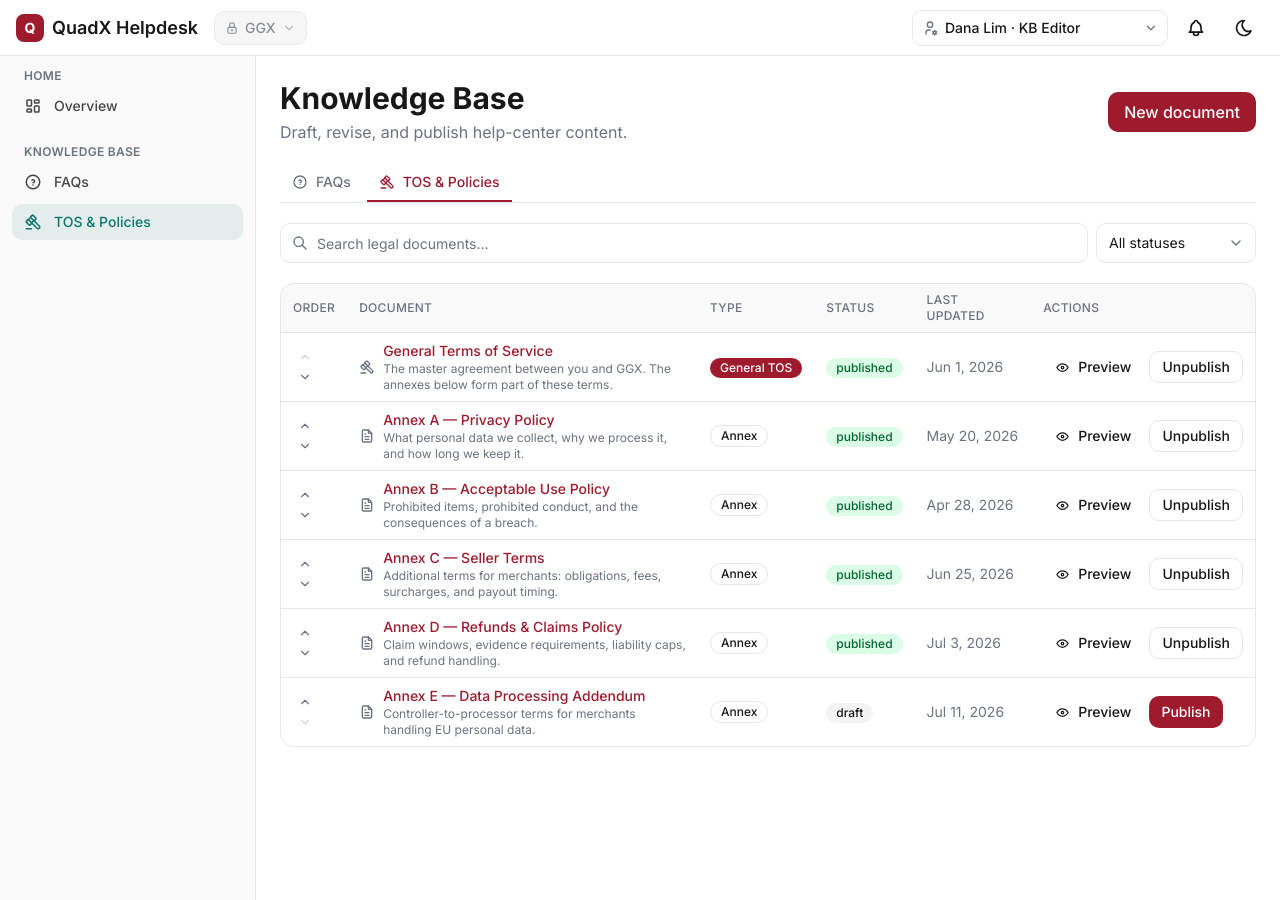
Test: TOS & Policies administration › reorders legal documents, including the General TOS
The width and height of the screenshot is (1280, 900).
Expected: the link "General Terms of Service" is shown, x1=383 y1=342 x2=553 y2=359
Expected: the button named "move General Terms of Service up" is disabled, x1=293 y1=347 x2=317 y2=367
Click the button named "move General Terms of Service down": coordinates (305, 377) x1=293 y1=367 x2=317 y2=387
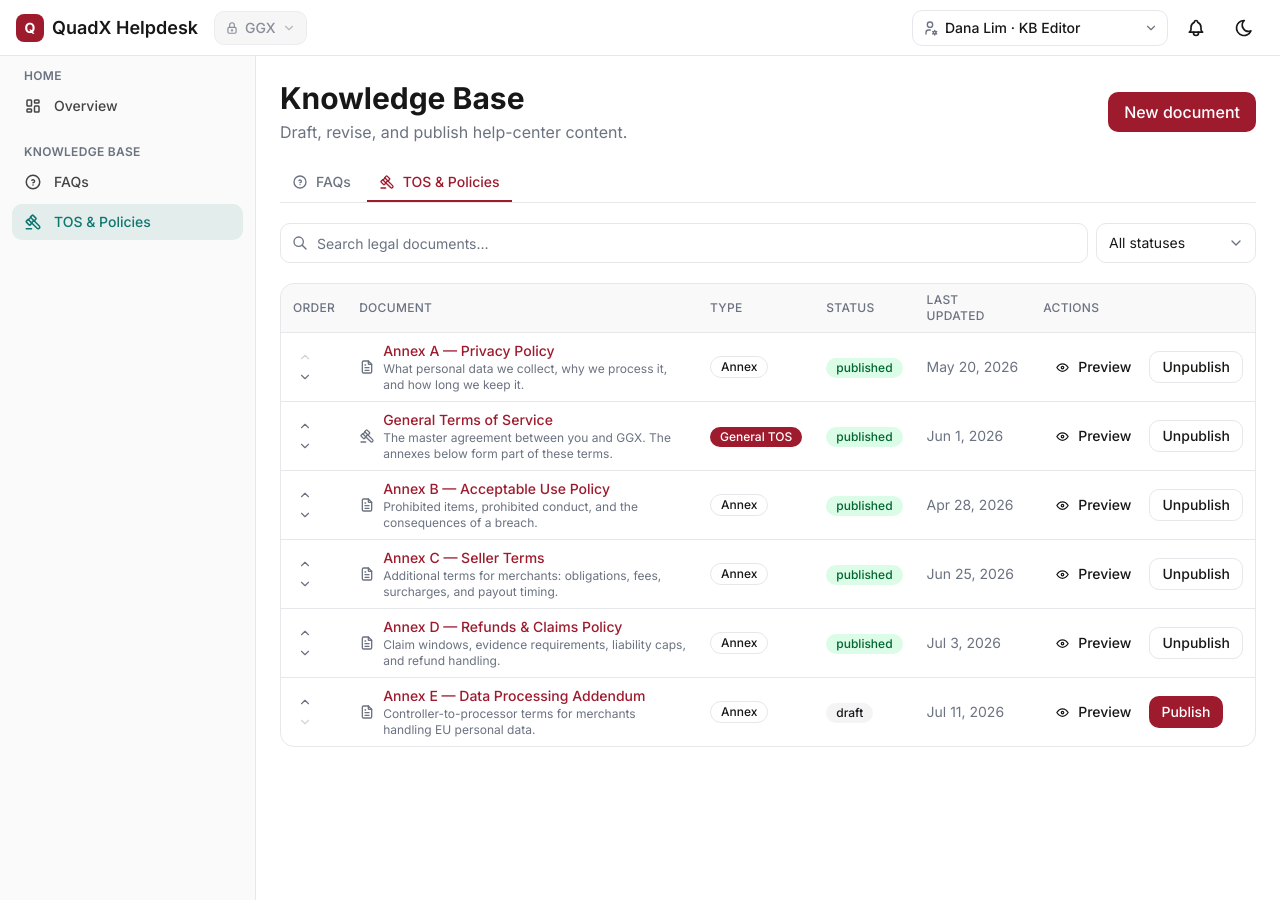
Expected: the link "Annex A — Privacy Policy" is shown, x1=383 y1=342 x2=555 y2=359
